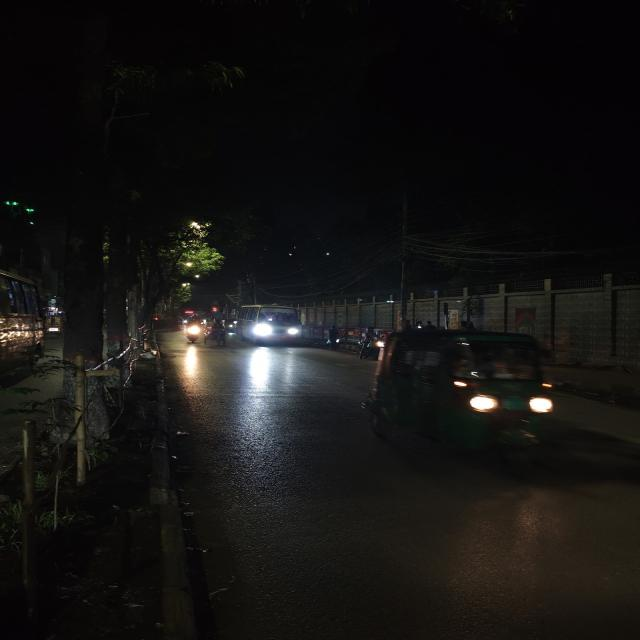bus: (235, 304, 304, 348)
cng: (373, 327, 561, 464)
motorcycle: (354, 330, 381, 358), (182, 318, 206, 346)
pedestrian: (323, 325, 343, 353)
rickshaw: (204, 320, 229, 348)
